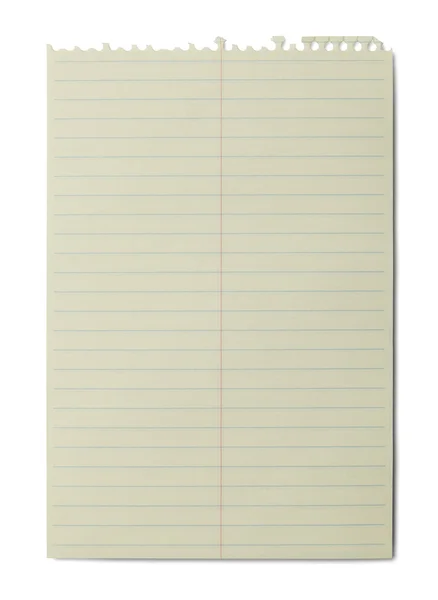page: (48, 53, 390, 558)
